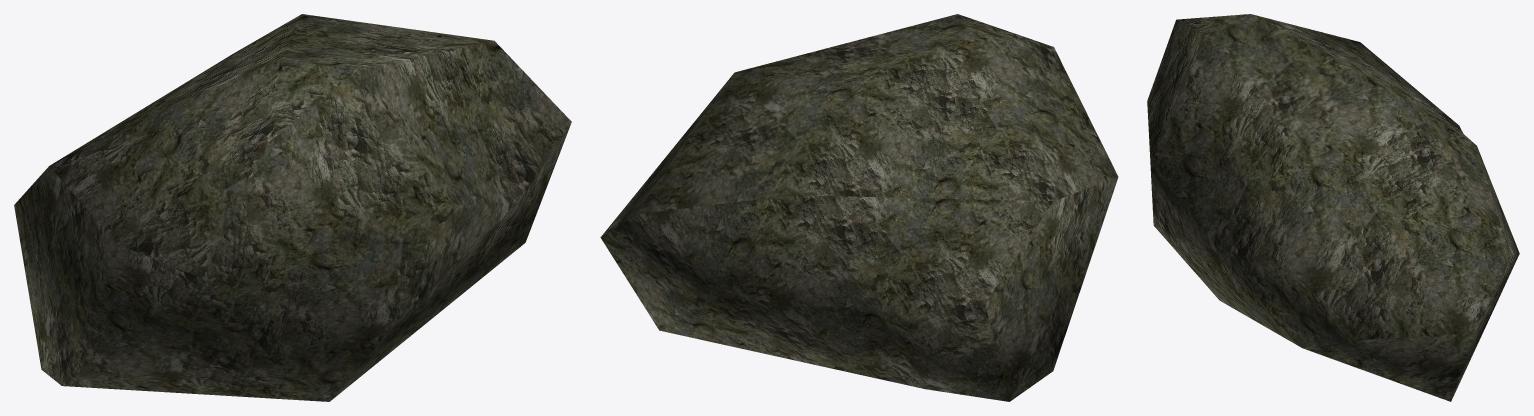
File: MIN_LOB_STONE_V2_30.glb
3 renders of one model, left to right at view 1: azimuth 30°, elevation 25°; view 2: azimuth 150°, elevation 25°; view 3: azimuth 270°, elevation 25°, orthographic. The views are drawn at different scales.
Visible parts, largest first — view 1: Mesh; view 2: Mesh; view 3: Mesh.
Part boxes in pixels (x1,y1,x2,y2): Mesh: (14,14,571,401); Mesh: (600,14,1118,401); Mesh: (1147,14,1519,401).
Bounding box in the file's own units: 6.83 × 4.46 × 5.29.
1 material, 1 textured.
